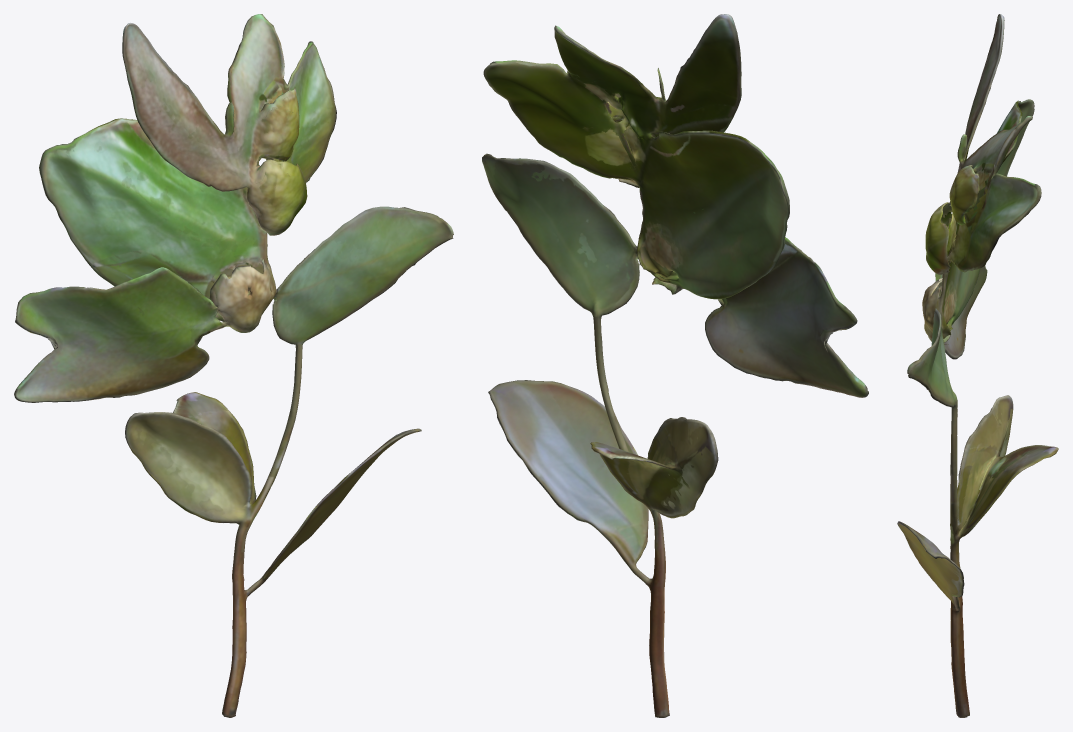
The model's file is h6-tawa.glb.
The picture shows the model from 3 angles, left to right: view 1: azimuth 30°, elevation 25°; view 2: azimuth 150°, elevation 25°; view 3: azimuth 270°, elevation 25°; orthographic projection. The views are drawn at different scales.
Size of the model in its own units: 1.2 by 1.99 by 0.4386.
Materials: 1 (1 with a texture image).
